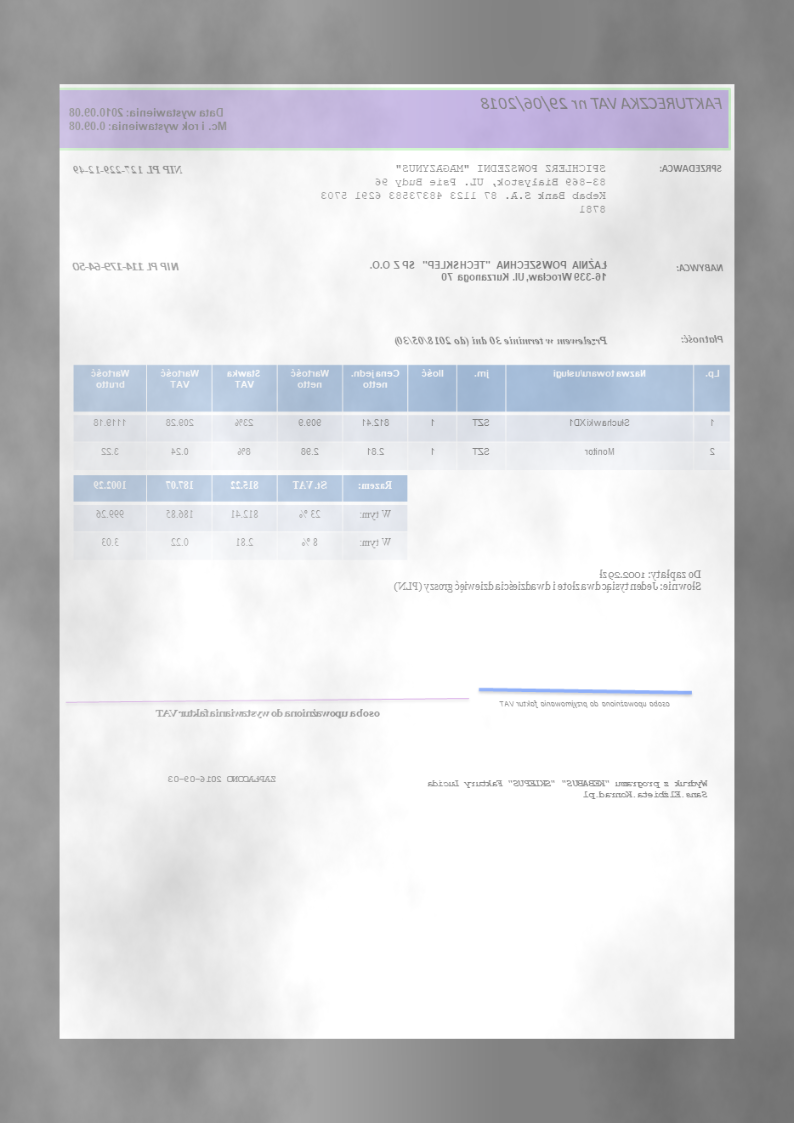Table: (71, 363, 733, 472), (72, 474, 409, 561)
TextBox: (319, 161, 608, 215), (393, 567, 704, 594), (426, 776, 710, 800), (369, 256, 609, 283), (67, 105, 230, 134), (479, 94, 724, 113), (392, 333, 610, 349), (154, 705, 382, 720), (498, 698, 673, 710), (71, 162, 184, 177), (70, 260, 181, 273), (167, 773, 278, 785), (657, 162, 724, 174), (673, 261, 727, 274), (679, 332, 725, 345)
